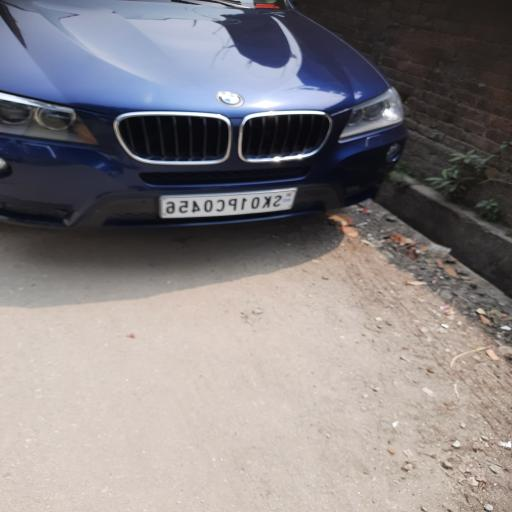License: (157, 186, 307, 223)
